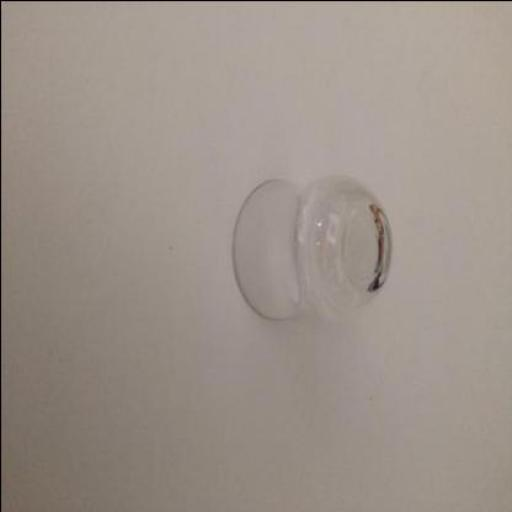glass: (233, 176, 392, 319)
